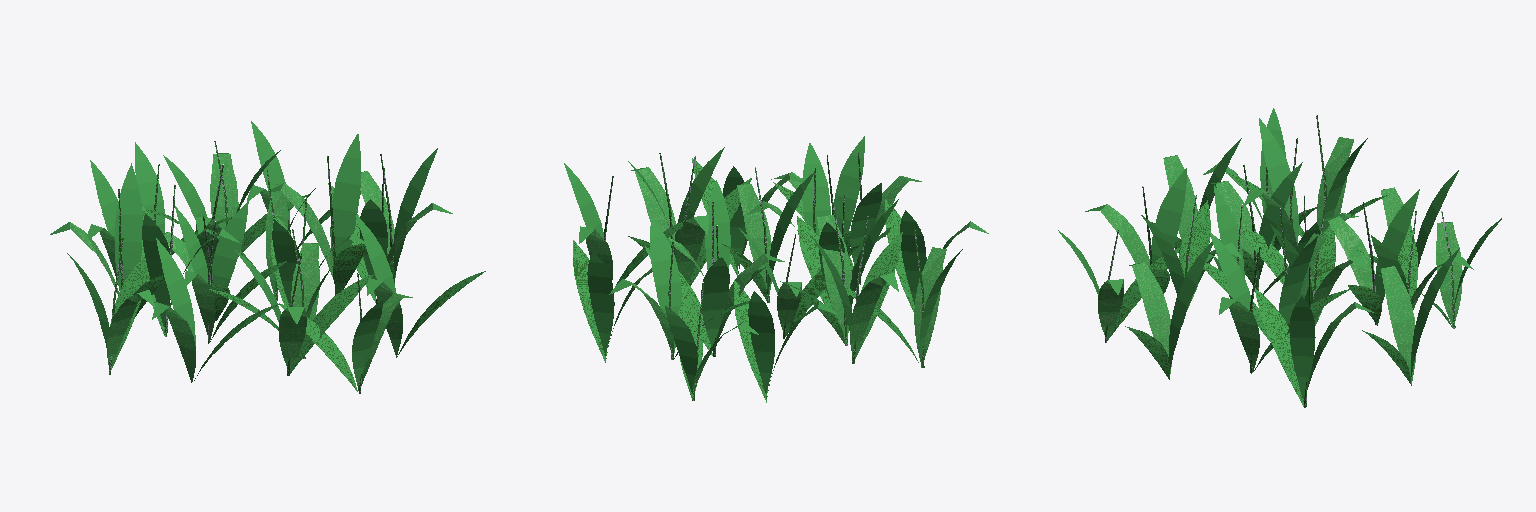
Rendered from BenchWithFlowers_leaves(green).obj.
3 renders of one model, left to right at view 1: azimuth 30°, elevation 25°; view 2: azimuth 150°, elevation 25°; view 3: azimuth 270°, elevation 25°, orthographic.
Visible parts, largest first — view 1: Mesh99 Lg_Leaf16 leaf_group12 Component_16_1 Model, Mesh6 Lg_Leaf1 leaf_group1 Component_16_1 Model, Mesh20 Lg_Leaf3 leaf_group3 Component_16_1 Model, Mesh42 Lg_Bent_Leaf6 leaf_group6 Component_16_1 Model, Mesh49 Lg_Bent_Leaf7 leaf_group7 Component_16_1 Model, Mesh76 Lg_Leaf11 leaf_group11 Component_16_1 Model, Mesh88 Lg_Leaf14 leaf_group_1_3 Component_16_1 Model, Mesh14 Lg_Bent_Leaf2 leaf_group2 Component_16_1 Model, Mesh113 Lg_Leaf18 leaf_group14 Component_16_1 Model, Mesh11 Sm_Leaf2 leaf_group2 Component_16_1 Model, Mesh127 Lg_Leaf20 leaf_group16 Component_16_1 Model, Mesh69 Lg_Leaf10 leaf_group10 Component_16_1 Model (+22 smaller); view 2: Mesh41 Lg_Leaf6 leaf_group6 Component_16_1 Model, Mesh80 Lg_Leaf12 leaf_group_1_1 Component_16_1 Model, Mesh84 Lg_Leaf13 leaf_group_1_2 Component_16_1 Model, Mesh106 Lg_Leaf17 leaf_group13 Component_16_1 Model, Mesh127 Lg_Leaf20 leaf_group16 Component_16_1 Model, Mesh48 Lg_Leaf7 leaf_group7 Component_16_1 Model, Mesh35 Lg_Bent_Leaf5 leaf_group5 Component_16_1 Model, Mesh7 Lg_Bent_Leaf1 leaf_group1 Component_16_1 Model, Mesh27 Lg_Leaf4 leaf_group4 Component_16_1 Model, Mesh88 Lg_Leaf14 leaf_group_1_3 Component_16_1 Model, Mesh63 Lg_Bent_Leaf9 leaf_group9 Component_16_1 Model, Mesh77 Lg_Bent_Leaf11 leaf_group11 Component_16_1 Model (+24 smaller); view 3: Mesh81 Lg_Bent_Leaf12 leaf_group_1_1 Component_16_1 Model, Mesh69 Lg_Leaf10 leaf_group10 Component_16_1 Model, Mesh93 Lg_Bent_Leaf15 leaf_group_1_4 Component_16_1 Model, Mesh67 Sm_Leaf10 leaf_group10 Component_16_1 Model, Mesh114 Lg_Bent_Leaf18 leaf_group14 Component_16_1 Model, Mesh13 Lg_Leaf2 leaf_group2 Component_16_1 Model, Mesh76 Lg_Leaf11 leaf_group11 Component_16_1 Model, Mesh92 Lg_Leaf15 leaf_group_1_4 Component_16_1 Model, Mesh107 Lg_Bent_Leaf17 leaf_group13 Component_16_1 Model, Mesh56 Lg_Bent_Leaf8 leaf_group8 Component_16_1 Model, Mesh99 Lg_Leaf16 leaf_group12 Component_16_1 Model, Mesh106 Lg_Leaf17 leaf_group13 Component_16_1 Model (+25 smaller).
Boxes of the visible parts, <box> form: Mesh99 Lg_Leaf16 leaf_group12 Component_16_1 Model: <box>330,134,360,264</box>; Mesh6 Lg_Leaf1 leaf_group1 Component_16_1 Model: <box>115,163,142,290</box>; Mesh20 Lg_Leaf3 leaf_group3 Component_16_1 Model: <box>212,201,248,287</box>; Mesh42 Lg_Bent_Leaf6 leaf_group6 Component_16_1 Model: <box>210,153,238,228</box>; Mesh49 Lg_Bent_Leaf7 leaf_group7 Component_16_1 Model: <box>291,243,319,358</box>; Mesh76 Lg_Leaf11 leaf_group11 Component_16_1 Model: <box>142,214,170,326</box>; Mesh88 Lg_Leaf14 leaf_group_1_3 Component_16_1 Model: <box>156,238,195,345</box>; Mesh14 Lg_Bent_Leaf2 leaf_group2 Component_16_1 Model: <box>278,307,306,372</box>; Mesh113 Lg_Leaf18 leaf_group14 Component_16_1 Model: <box>135,142,164,232</box>; Mesh11 Sm_Leaf2 leaf_group2 Component_16_1 Model: <box>290,273,374,373</box>; Mesh127 Lg_Leaf20 leaf_group16 Component_16_1 Model: <box>352,300,382,385</box>; Mesh69 Lg_Leaf10 leaf_group10 Component_16_1 Model: <box>394,148,437,274</box>; Mesh41 Lg_Leaf6 leaf_group6 Component_16_1 Model: <box>650,216,681,352</box>; Mesh80 Lg_Leaf12 leaf_group_1_1 Component_16_1 Model: <box>587,252,614,355</box>; Mesh84 Lg_Leaf13 leaf_group_1_2 Component_16_1 Model: <box>748,291,774,393</box>; Mesh106 Lg_Leaf17 leaf_group13 Component_16_1 Model: <box>701,257,729,346</box>; Mesh127 Lg_Leaf20 leaf_group16 Component_16_1 Model: <box>834,136,864,230</box>; Mesh48 Lg_Leaf7 leaf_group7 Component_16_1 Model: <box>802,143,830,237</box>; Mesh35 Lg_Bent_Leaf5 leaf_group5 Component_16_1 Model: <box>914,247,946,366</box>; Mesh7 Lg_Bent_Leaf1 leaf_group1 Component_16_1 Model: <box>850,273,898,356</box>; Mesh27 Lg_Leaf4 leaf_group4 Component_16_1 Model: <box>705,180,730,269</box>; Mesh88 Lg_Leaf14 leaf_group_1_3 Component_16_1 Model: <box>900,210,926,304</box>; Mesh63 Lg_Bent_Leaf9 leaf_group9 Component_16_1 Model: <box>737,184,771,300</box>; Mesh77 Lg_Bent_Leaf11 leaf_group11 Component_16_1 Model: <box>817,215,852,343</box>; Mesh81 Lg_Bent_Leaf12 leaf_group_1_1 Component_16_1 Model: <box>1381,266,1415,384</box>; Mesh69 Lg_Leaf10 leaf_group10 Component_16_1 Model: <box>1290,296,1315,398</box>; Mesh93 Lg_Bent_Leaf15 leaf_group_1_4 Component_16_1 Model: <box>1129,262,1171,373</box>; Mesh67 Sm_Leaf10 leaf_group10 Component_16_1 Model: <box>1255,288,1303,406</box>; Mesh114 Lg_Bent_Leaf18 leaf_group14 Component_16_1 Model: <box>1436,222,1462,327</box>; Mesh13 Lg_Leaf2 leaf_group2 Component_16_1 Model: <box>1151,168,1186,270</box>; Mesh76 Lg_Leaf11 leaf_group11 Component_16_1 Model: <box>1259,118,1298,245</box>; Mesh92 Lg_Leaf15 leaf_group_1_4 Component_16_1 Model: <box>1169,242,1212,368</box>; Mesh107 Lg_Bent_Leaf17 leaf_group13 Component_16_1 Model: <box>1319,216,1374,289</box>; Mesh56 Lg_Bent_Leaf8 leaf_group8 Component_16_1 Model: <box>1219,297,1259,371</box>; Mesh99 Lg_Leaf16 leaf_group12 Component_16_1 Model: <box>1279,236,1317,323</box>; Mesh106 Lg_Leaf17 leaf_group13 Component_16_1 Model: <box>1375,189,1419,302</box>.
Bounding box in the file's own units: 902 × 369 × 902.